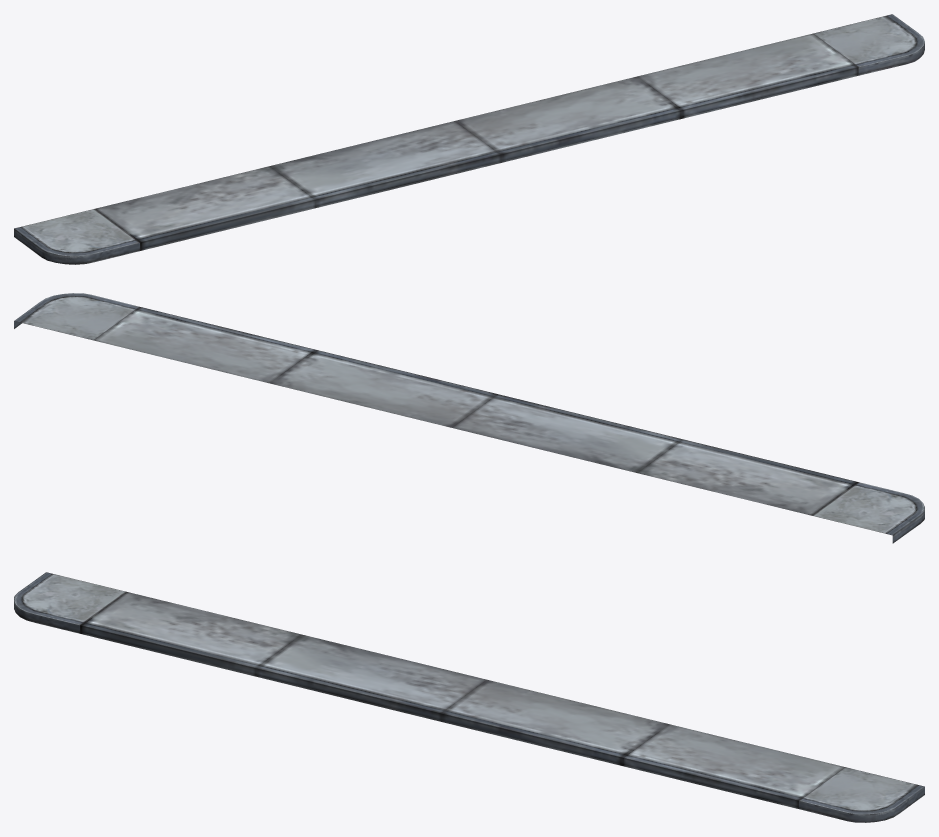
The model's file is footpath.fbx.
3 renders of one model, top to bottom at view 1: azimuth 30°, elevation 25°; view 2: azimuth 150°, elevation 25°; view 3: azimuth 330°, elevation 25°, orthographic.
Visible parts, largest first — view 1: polySurface842; view 2: polySurface842; view 3: polySurface842.
Part boxes in pixels (<box>): polySurface842: <box>14,14,924,264</box>; polySurface842: <box>14,293,924,543</box>; polySurface842: <box>14,572,924,822</box>.
Bounding box in the file's own units: 2202 × 20 × 201.
Materials: 1 (1 with a texture image).
